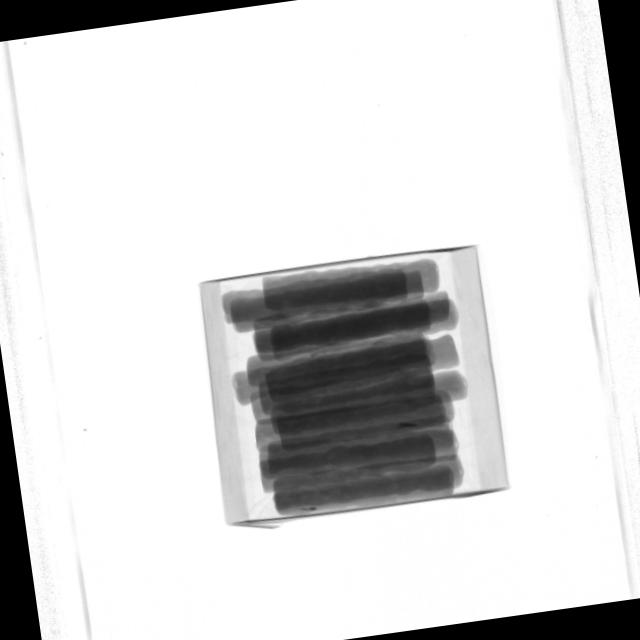ym: (398, 419, 419, 430), (299, 505, 319, 513)
